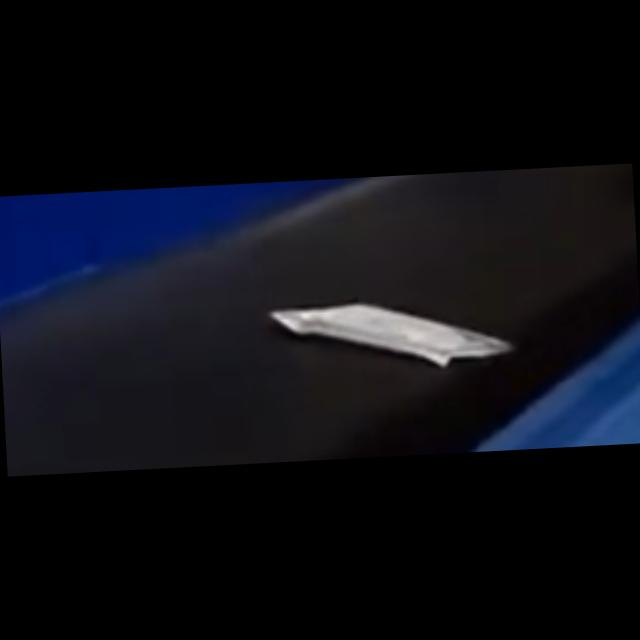mailer: (271, 293, 514, 382)
